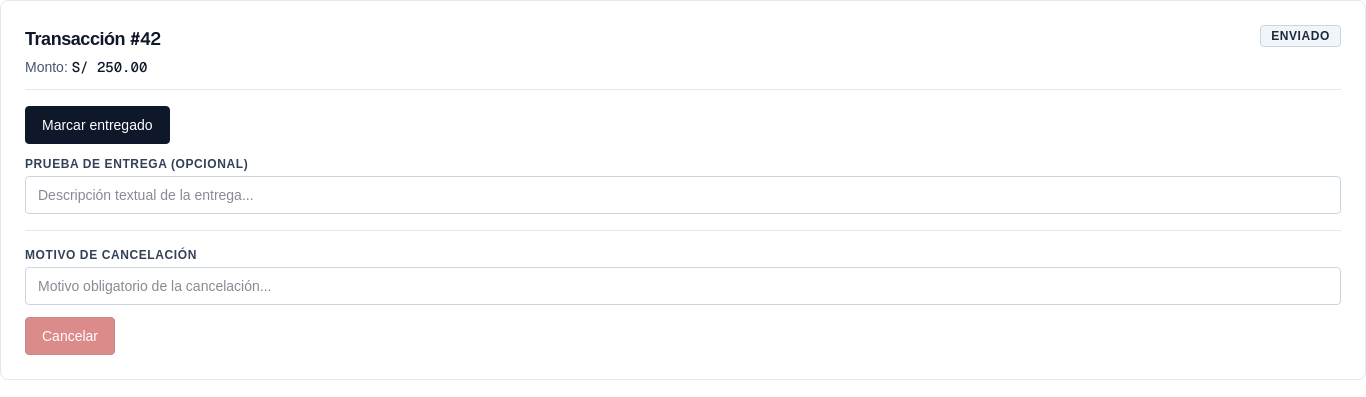
PanelTransaccion (PHA04TSK18) › vendedor en enviado: entregar con prueba de entrega incluye descripcionPruebaEntrega en el cuerpo
Type "Entregado en puerta, código 8821" into the field labelled "Prueba de entrega (opcional)" at (683, 195), box [25,176,1341,214]
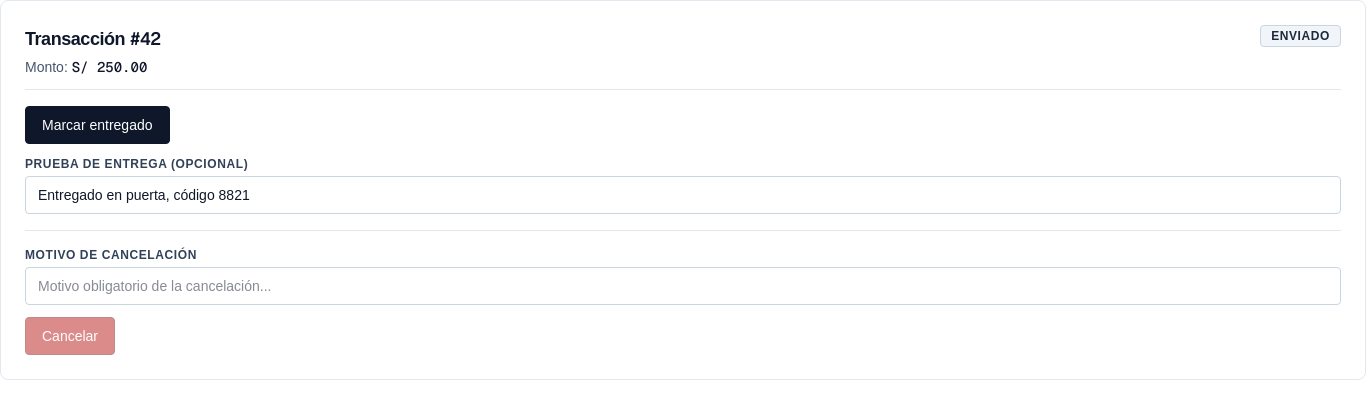
Click the button "Marcar entregado" at (97, 125), box [25,106,170,144]
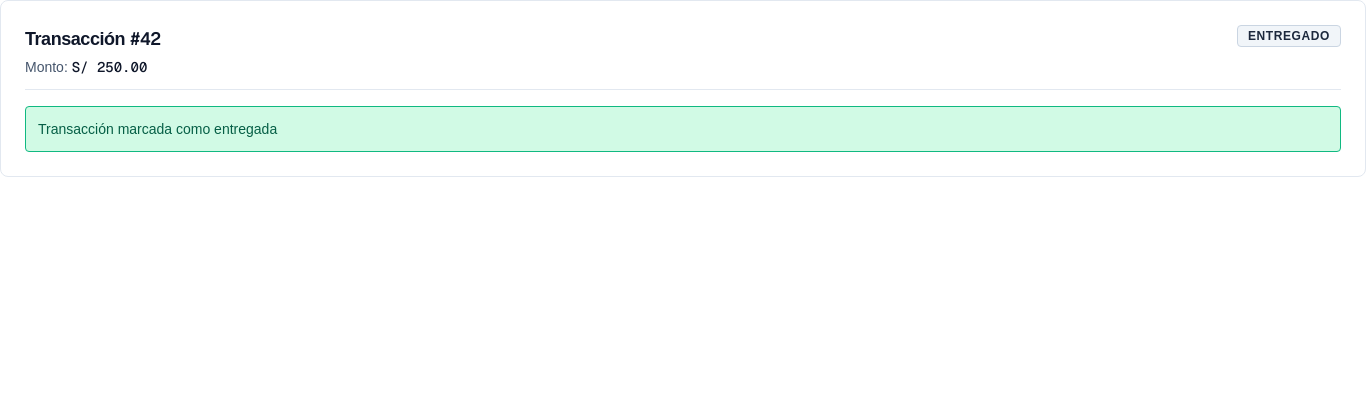
expect the text "Transacción marcada como entregada" is shown: met, box [25,106,1341,152]
